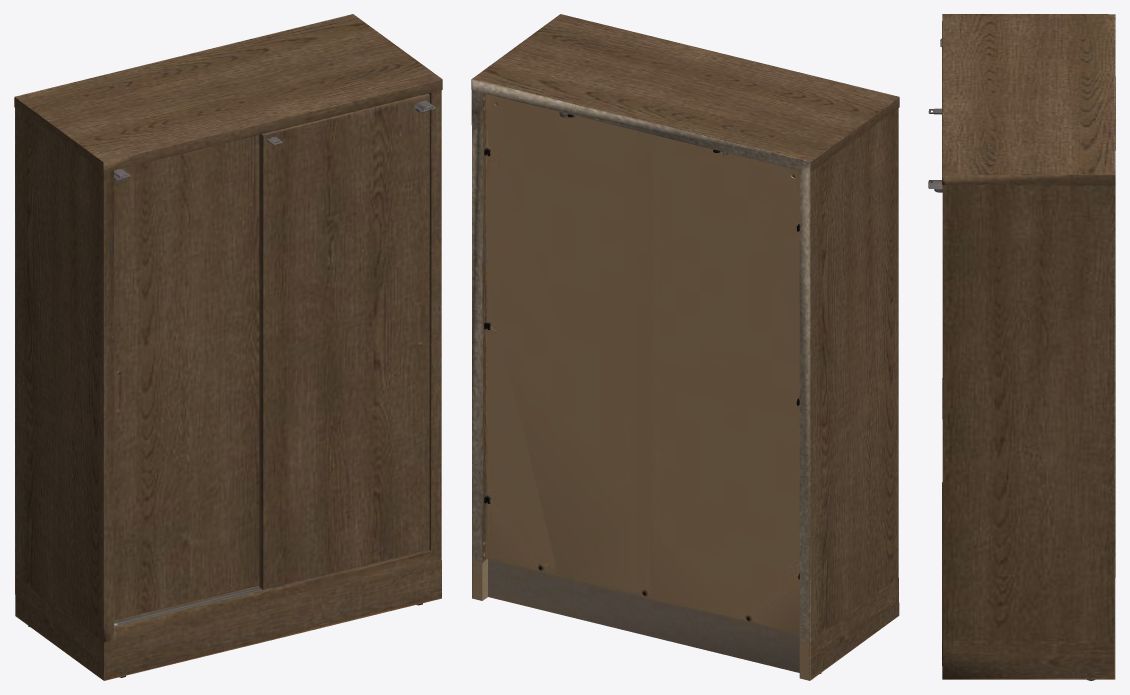
The model's file is 32 - TONSTAD Cabinet with sliding doors - brown stained oak veneer 82x37x120 cm.glb.
The picture shows the model from 3 angles, left to right: view 1: azimuth 30°, elevation 25°; view 2: azimuth 150°, elevation 25°; view 3: azimuth 270°, elevation 25°; orthographic projection. The views are drawn at different scales.
Visible parts, largest first — view 1: 30489230-TONSTAD001; view 2: 30489230-TONSTAD001; view 3: 30489230-TONSTAD001.
Boxes of the visible parts, left/top/right/bottom form: 30489230-TONSTAD001: left=14, top=14, right=442, bottom=680; 30489230-TONSTAD001: left=471, top=14, right=899, bottom=680; 30489230-TONSTAD001: left=928, top=14, right=1115, bottom=680.
Size of the model in its own units: 0.8172 by 1.2 by 0.4023.
Materials: 1 (1 with a texture image).
